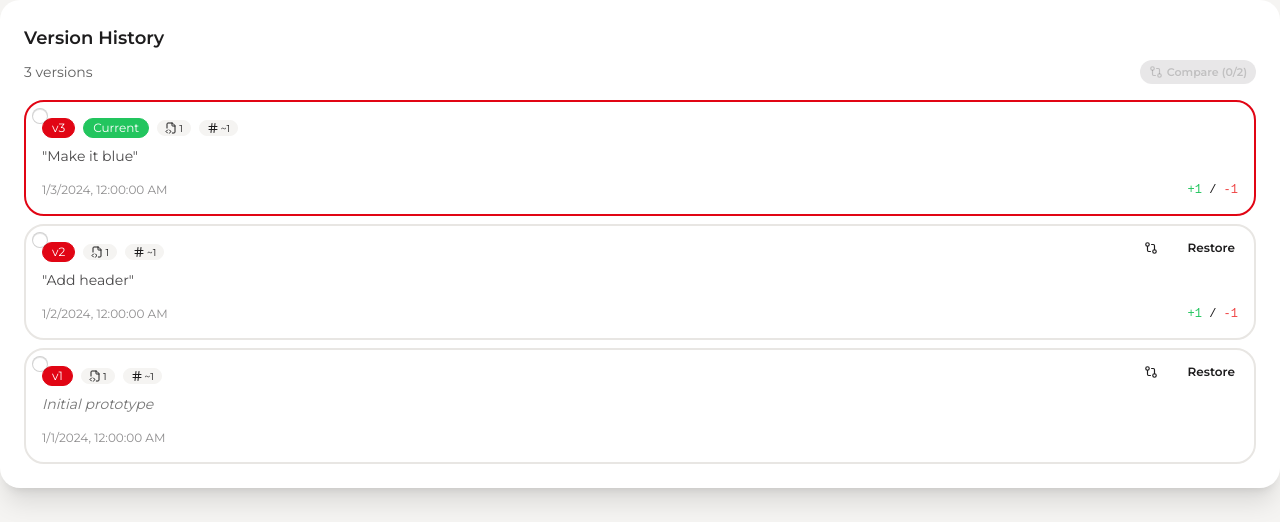
Scenario: VersionHistoryPanel › Compare selection (Story 7.5) › enables compare button when exactly 2 versions selected
The image size is (1280, 522).
Step 1. Click the checkbox with test id "compare-checkbox-proto-1" → (40, 364), box [32,356,48,372]
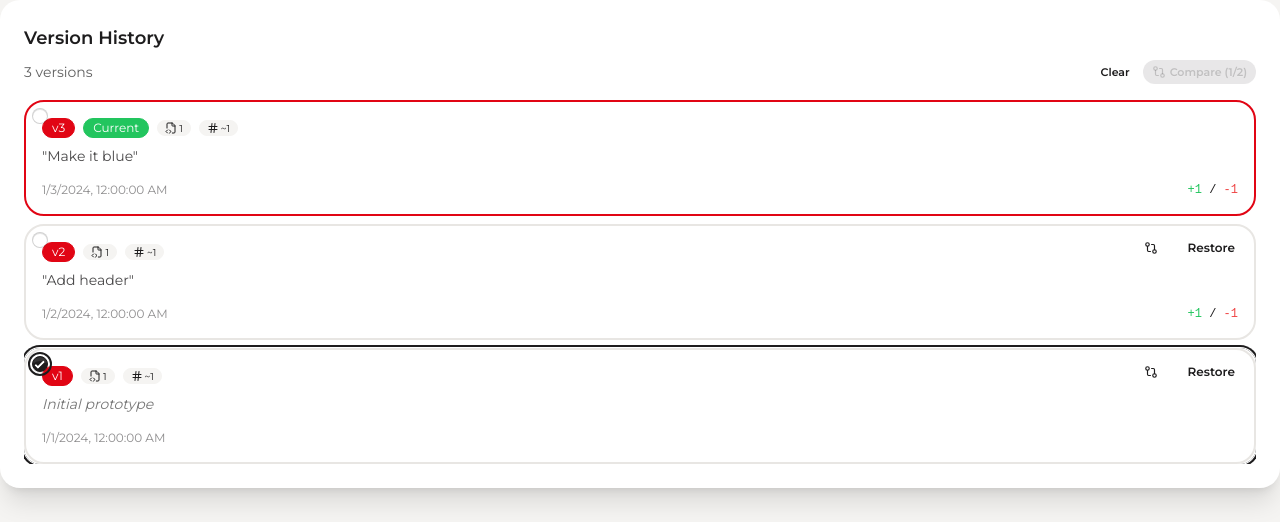
Step 2. Click the checkbox with test id "compare-checkbox-proto-2" → (40, 240), box [32,232,48,248]
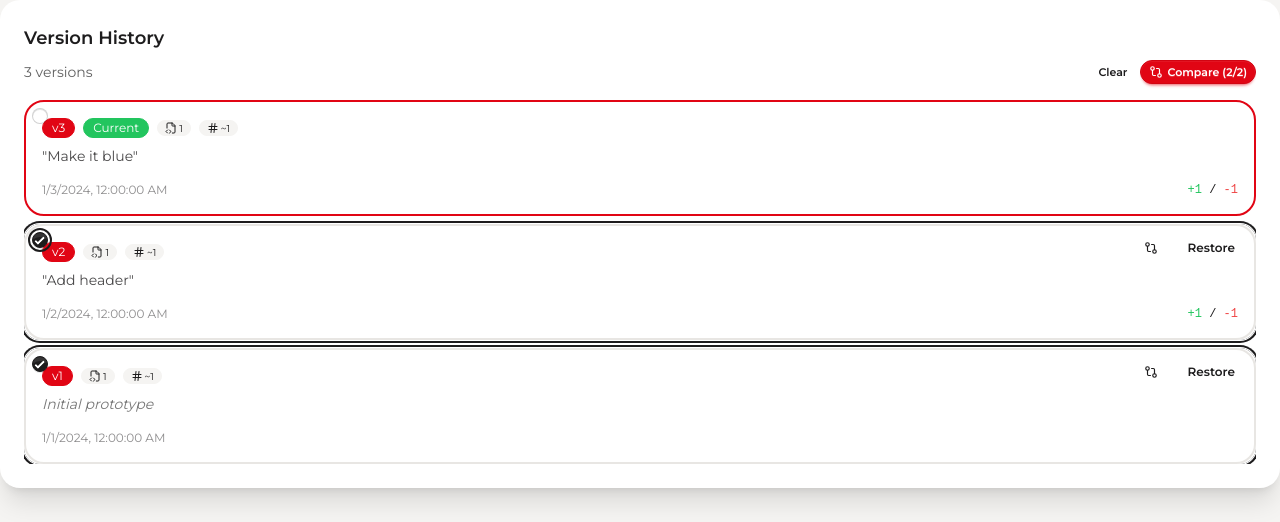
Expected: the button with test id "compare-selected-btn" reads "Compare (2/2)", [1140,60,1256,84]
Expected: the button with test id "compare-selected-btn" is enabled, [1140,60,1256,84]
